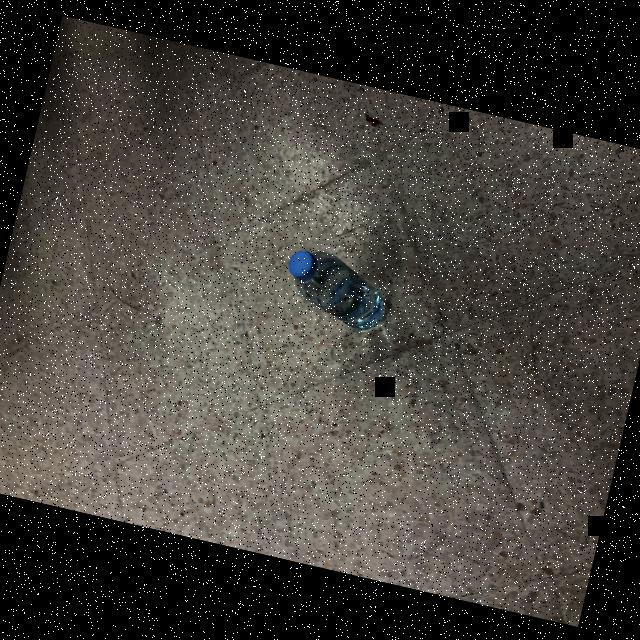plastic_bottle: (278, 242, 396, 334)
plastic_bottle_cap: (285, 247, 319, 280)
